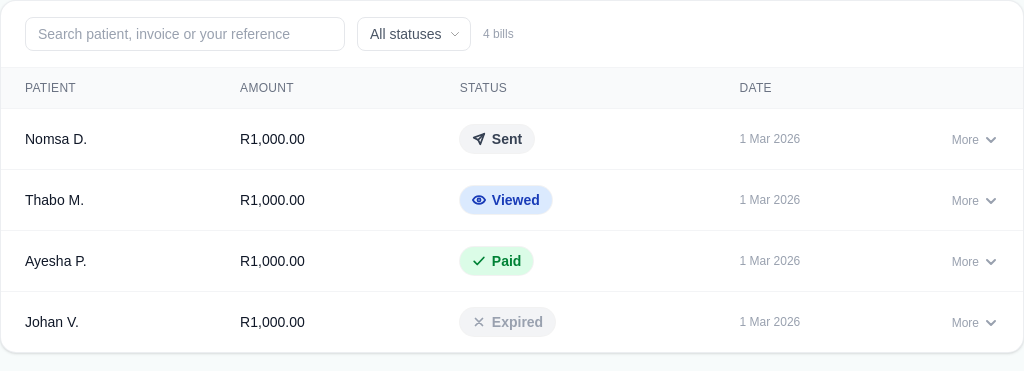
Test: empty states › says "no matches" when the filters exclude everything
Type "zzzz" into the search field with test id "bills-search" at (185, 34), box left=25, top=17, right=345, bottom=51
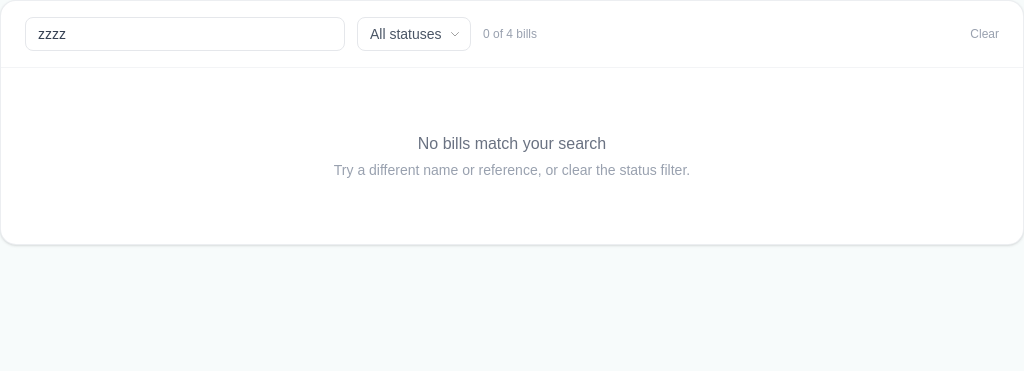
Check: the element with test id "bills-no-matches" is shown, box left=334, top=135, right=690, bottom=178
Check: the text with test id "bills-count" reads "0 of 4 bills", box left=483, top=27, right=537, bottom=41
